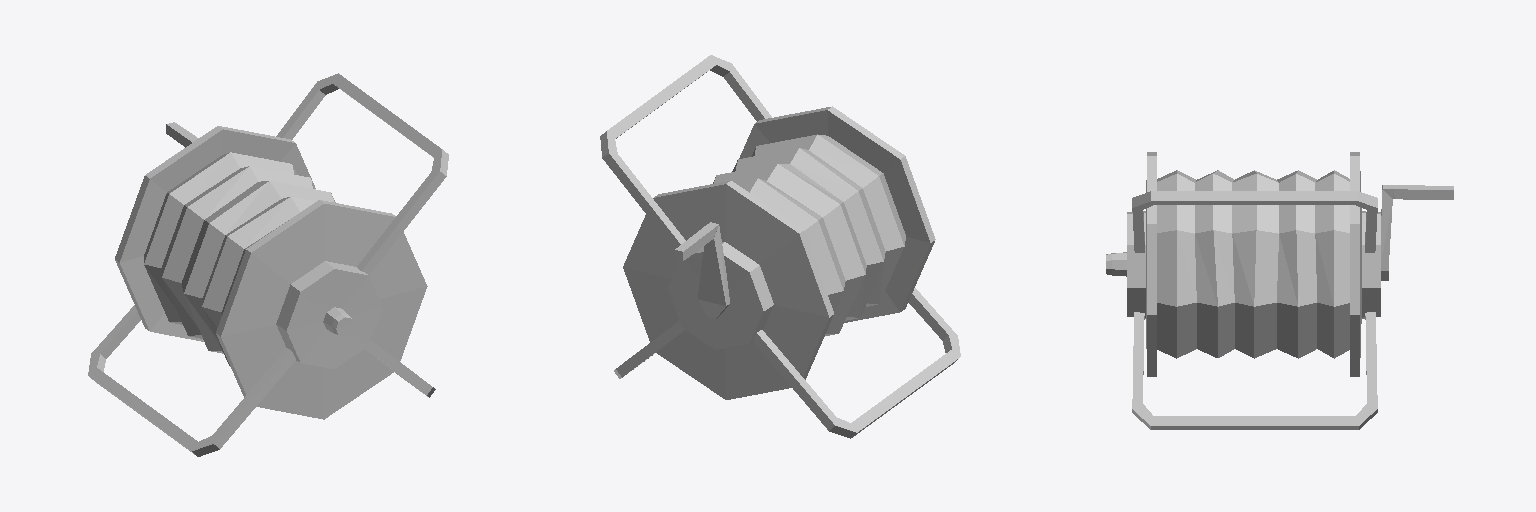
File: HoseReel.obj
3 renders of one model, left to right at view 1: azimuth 30°, elevation 25°; view 2: azimuth 150°, elevation 25°; view 3: azimuth 270°, elevation 25°, orthographic.
Visible parts, largest first — view 1: HoseReel; view 2: HoseReel; view 3: HoseReel.
Boxes of the visible parts, x1,y1,x2,y2 form: HoseReel: [88, 73, 448, 456]; HoseReel: [600, 55, 960, 438]; HoseReel: [1106, 152, 1453, 429].
Size of the model in its own units: 0.5537 by 0.511 by 0.6506.